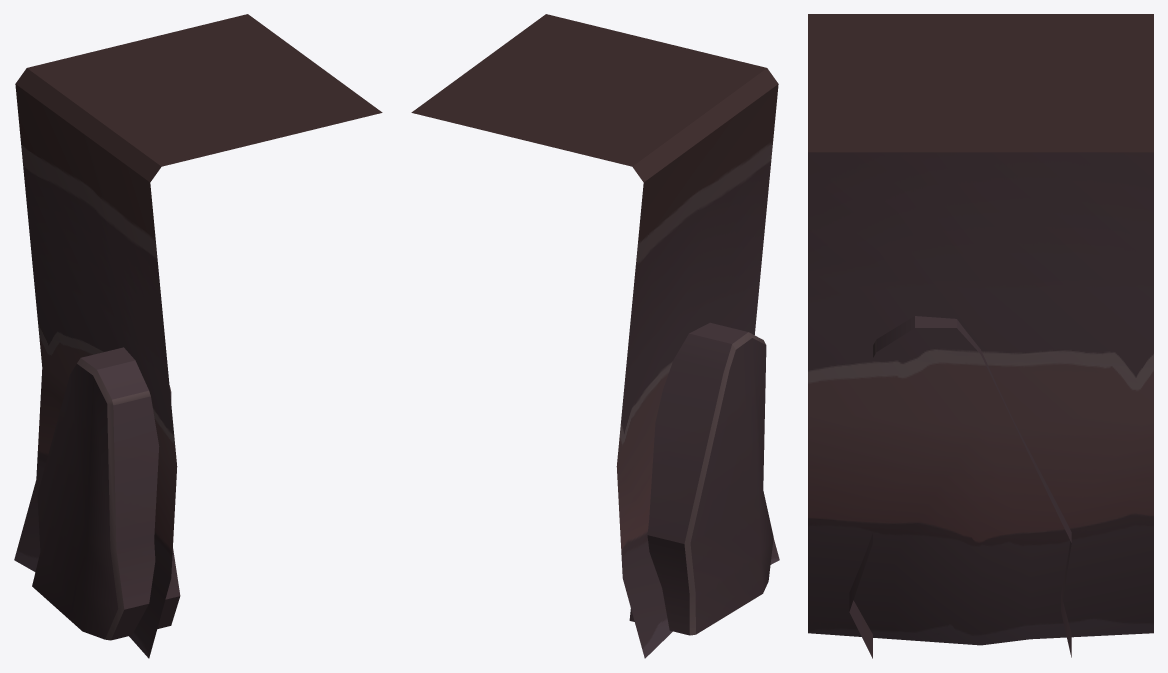
File: M_Wall_05.fbx
The picture shows the model from 3 angles, left to right: view 1: azimuth 30°, elevation 25°; view 2: azimuth 150°, elevation 25°; view 3: azimuth 270°, elevation 25°; orthographic projection. The views are drawn at different scales.
Parts seen in each view (by area): view 1: M_Walls.009; view 2: M_Walls.009; view 3: M_Walls.009.
Boxes of the visible parts, x1,y1,x2,y2 form: M_Walls.009: (14,14,382,658); M_Walls.009: (411,14,779,658); M_Walls.009: (808,14,1153,658).
Size of the model in its own units: 221 by 400 by 200.
